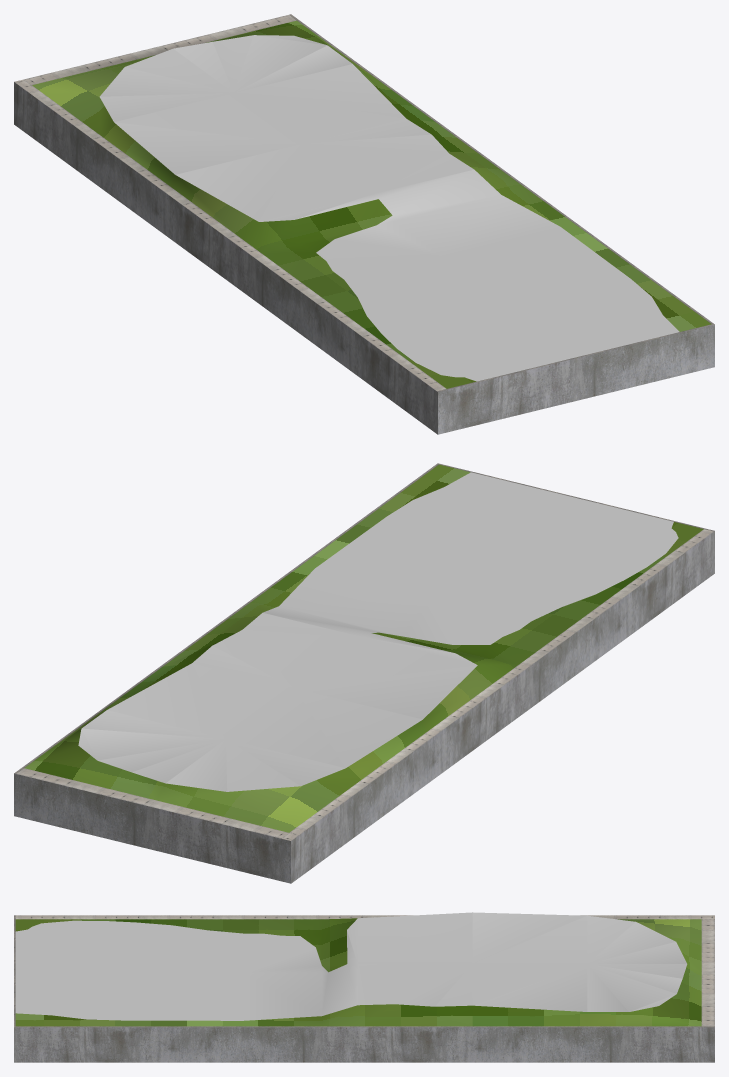
3 renders of one model, top to bottom at view 1: azimuth 30°, elevation 25°; view 2: azimuth 150°, elevation 25°; view 3: azimuth 270°, elevation 25°, orthographic. The views are drawn at different scales.
Visible parts, largest first — view 1: BB_020_b2; view 2: BB_020_b2; view 3: BB_020_b2.
Part boxes in pixels (x1=…): BB_020_b2: x1=14, y1=14, x2=714, y2=434; BB_020_b2: x1=14, y1=463, x2=714, y2=883; BB_020_b2: x1=14, y1=912, x2=714, y2=1062.
Size of the model in its own units: 13.59 by 2.5 by 36.
